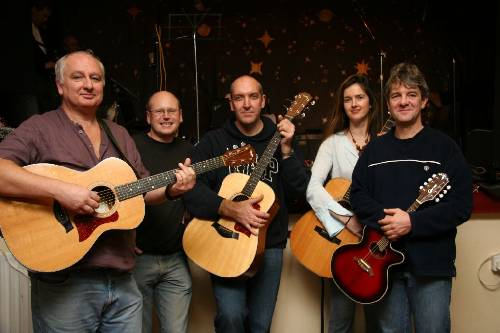guitar: (1, 140, 258, 275), (179, 94, 314, 277), (331, 169, 451, 306), (289, 172, 369, 280)
